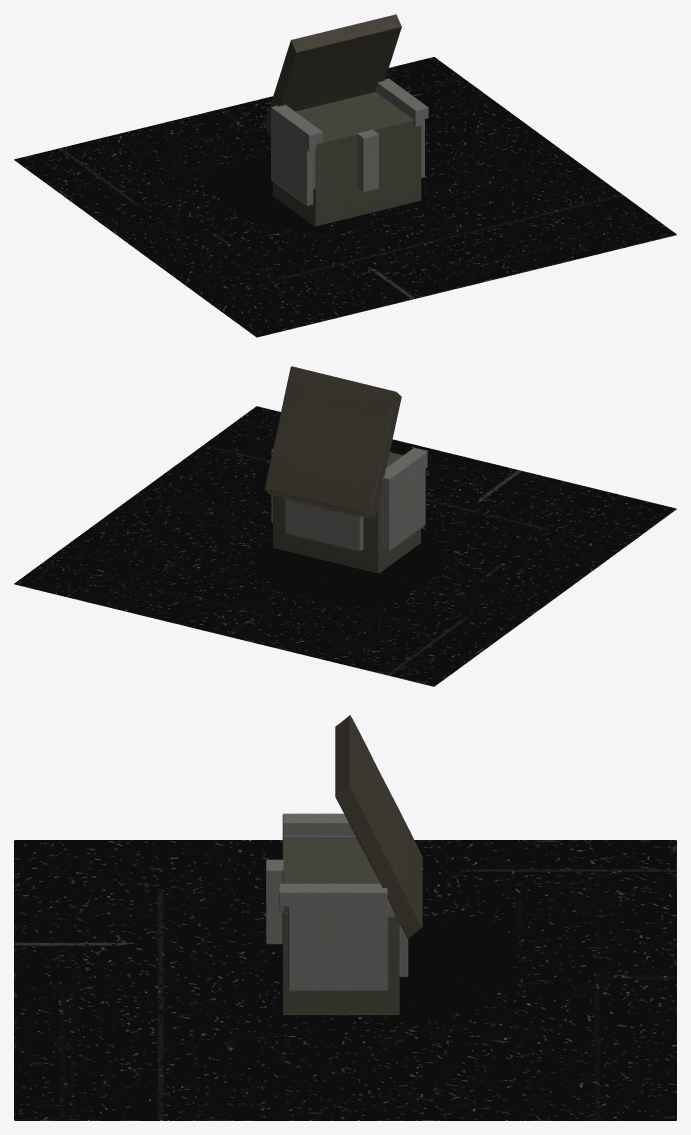
File: gltf-viewer-proxy-chest-trellis.glb
3 views of the same model, one above another, from view 1: azimuth 30°, elevation 25°; view 2: azimuth 150°, elevation 25°; view 3: azimuth 270°, elevation 25° (orthographic). The views are drawn at different scales.
Parts seen in each view (by area): view 1: world; view 2: world; view 3: world.
Boxes of the visible parts, bbox=[...] form: world: bbox=[14, 14, 676, 337]; world: bbox=[14, 366, 676, 686]; world: bbox=[14, 715, 676, 1120].
Size of the model in its own units: 1 by 0.385 by 1.
Materials: 1 (1 with a texture image).
